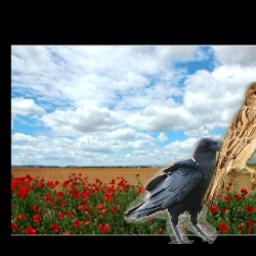Crow: (124, 137, 226, 244)
Sparrow: (202, 82, 256, 206)
